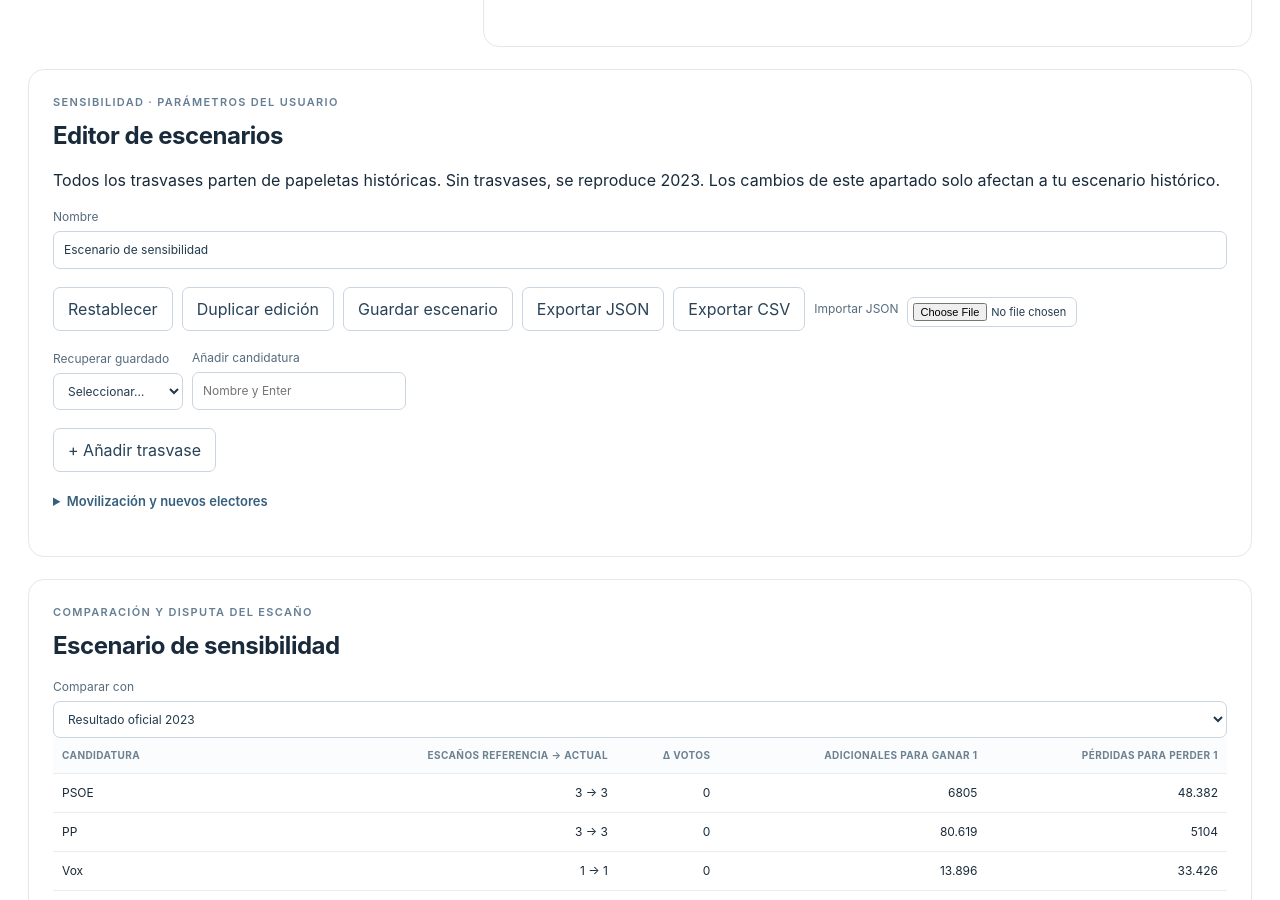
Test case: carga el histórico canario, añade un trasvase y guarda escenario
The width and height of the screenshot is (1280, 900).
(page scrolled)
Click the button "+ Añadir trasvase" at x=135, y=450, box [53,428,216,472]
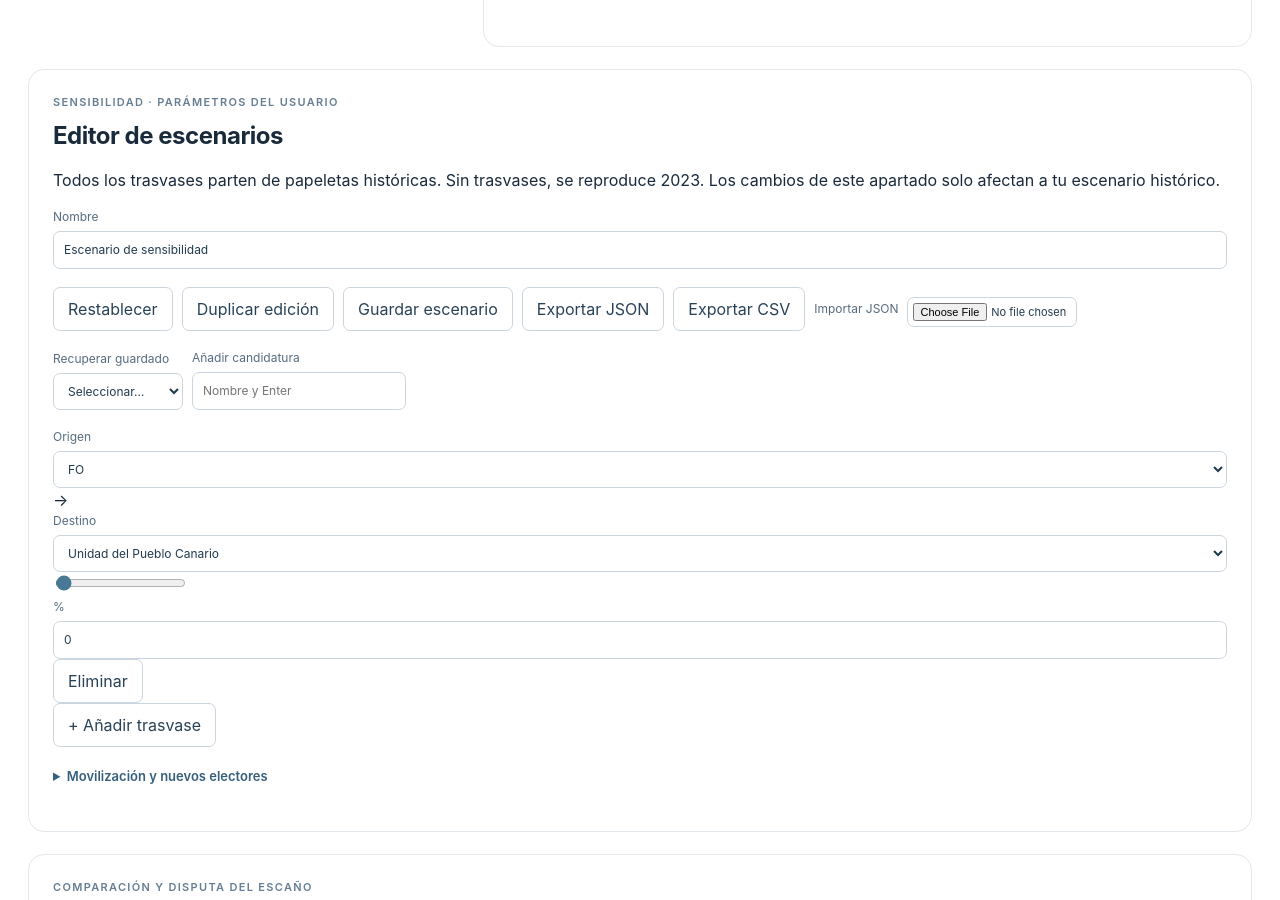
Expected: the number of elements with class "transfer-row" is 1, [53,428,1227,703]
Click the button "Guardar escenario" at x=428, y=309, box [343,287,513,331]
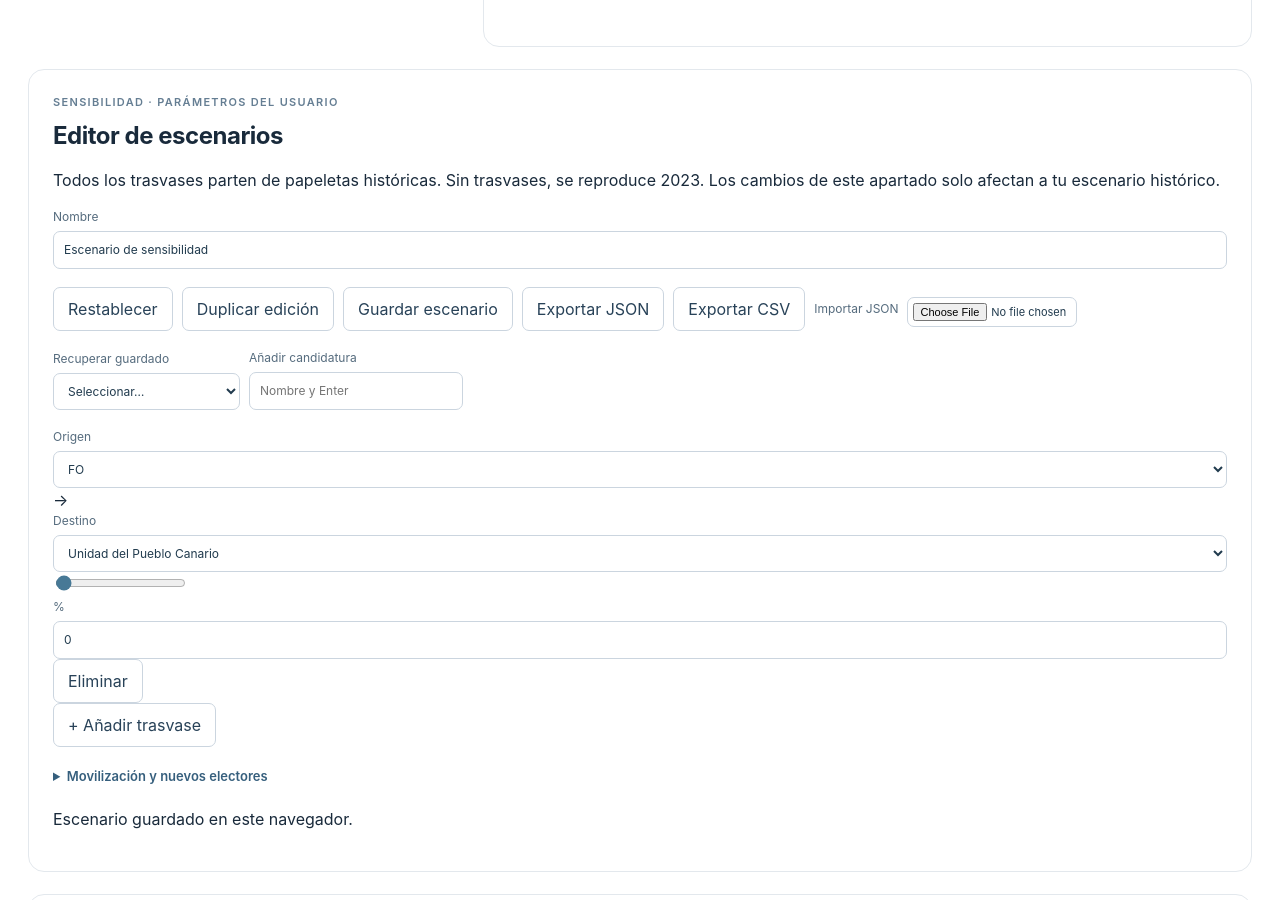
Expected: the text "Escenario guardado" is shown, [53,809,353,829]
